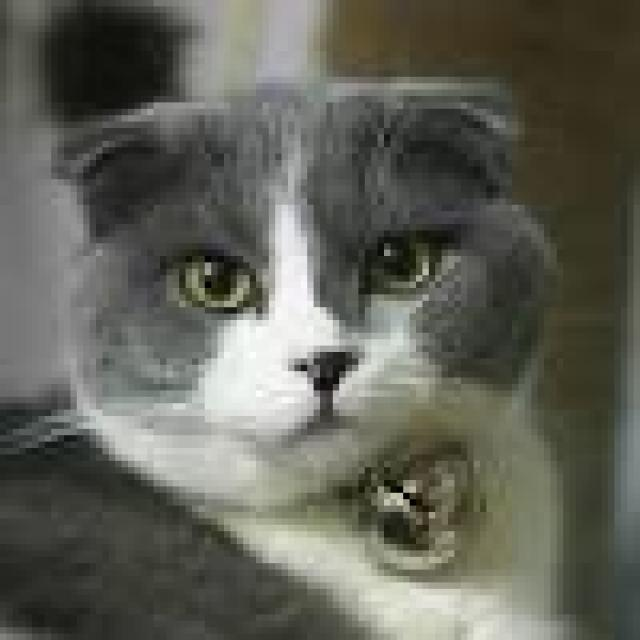cat-face: (44, 35, 613, 571)
